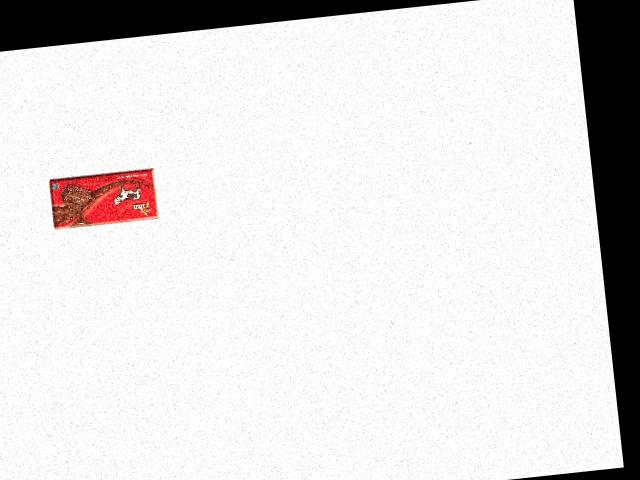chocolate: (46, 178, 150, 240)
